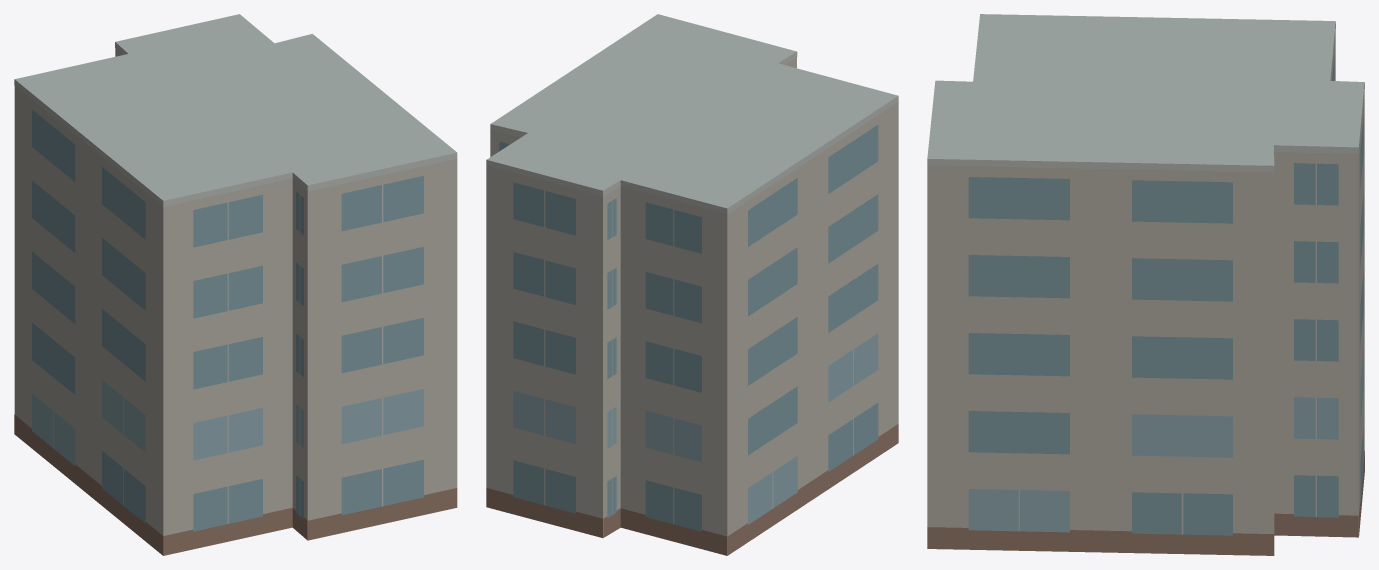
Rendered from survey-upis-32867996.glb.
3 views of the same model, side by side, from view 1: azimuth 30°, elevation 25°; view 2: azimuth 150°, elevation 25°; view 3: azimuth 270°, elevation 25° (orthographic). The views are drawn at different scales.
Visible parts, largest first — view 1: survey-upis-32867996.tmp; view 2: survey-upis-32867996.tmp; view 3: survey-upis-32867996.tmp.
Part boxes in pixels (x1,y1,x2,y2): survey-upis-32867996.tmp: (14, 14, 457, 555); survey-upis-32867996.tmp: (486, 14, 898, 555); survey-upis-32867996.tmp: (927, 14, 1364, 555).
Bounding box in the file's own units: 12.11 × 14.5 × 14.75.
